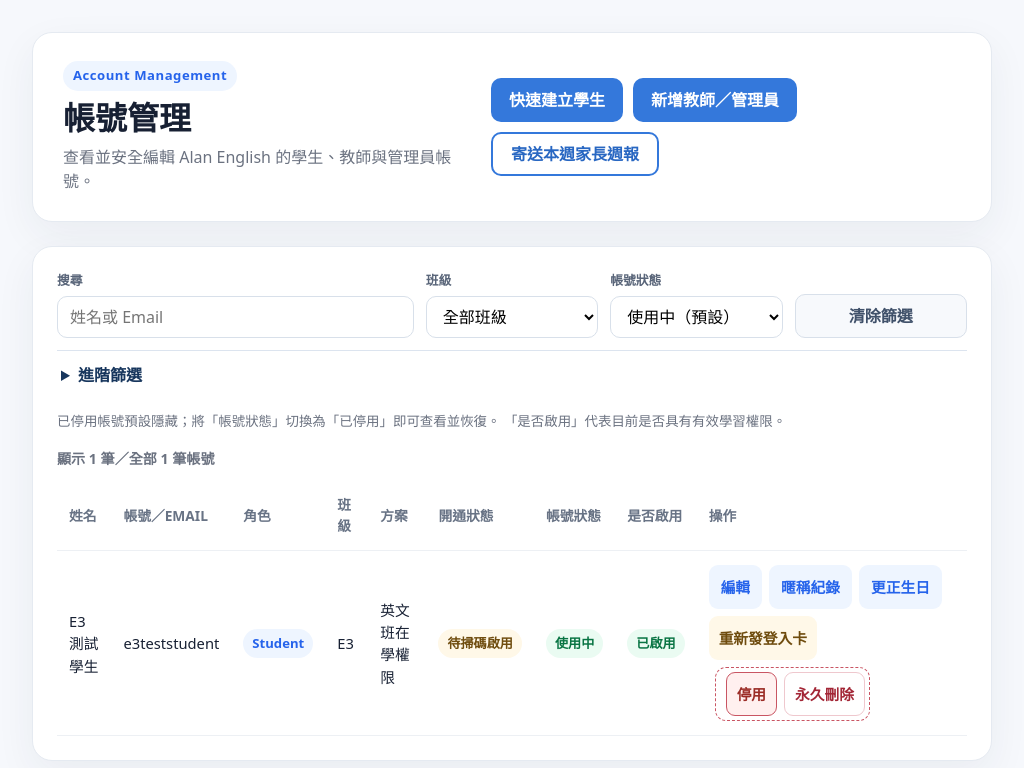
Test case: AccountManagement › lets an admin open one student's nickname change history
The image size is (1024, 768).
Step 1. Click the button "暱稱紀錄" → (811, 588), box [769,566,852,610]
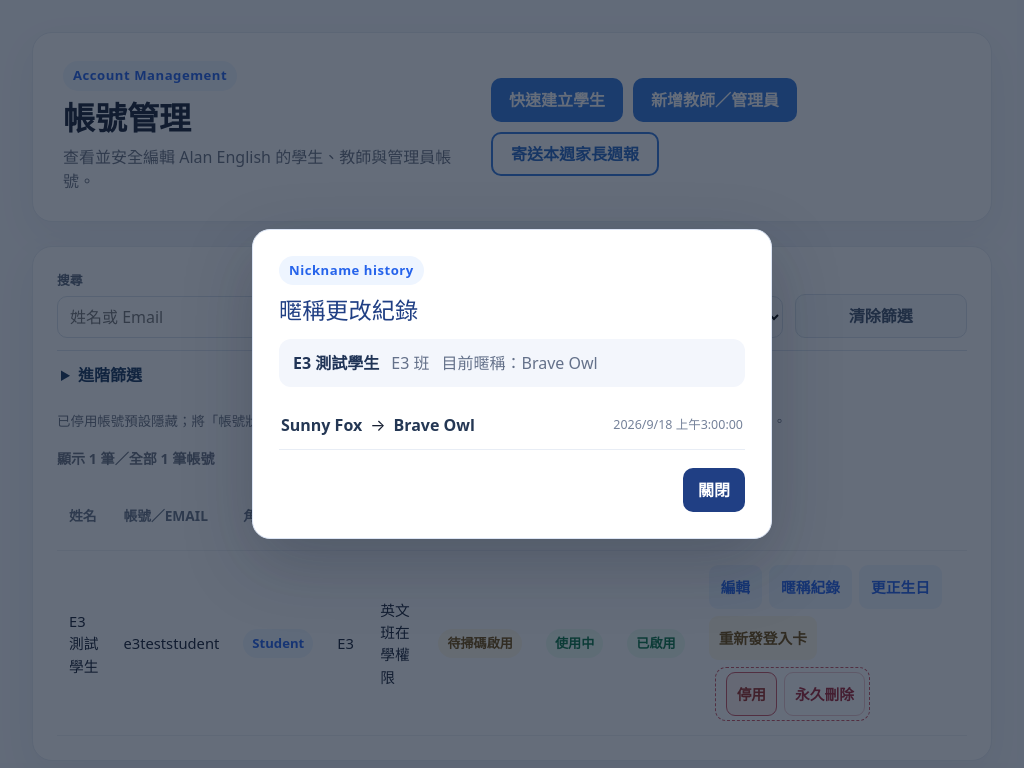
Now the dialog "暱稱更改紀錄" is shown, box [252,229,772,539]
Now the text "目前暱稱：Brave Owl" is shown, box [442,351,598,375]
Now the text "Sunny Fox" is shown, box [281,413,362,437]
